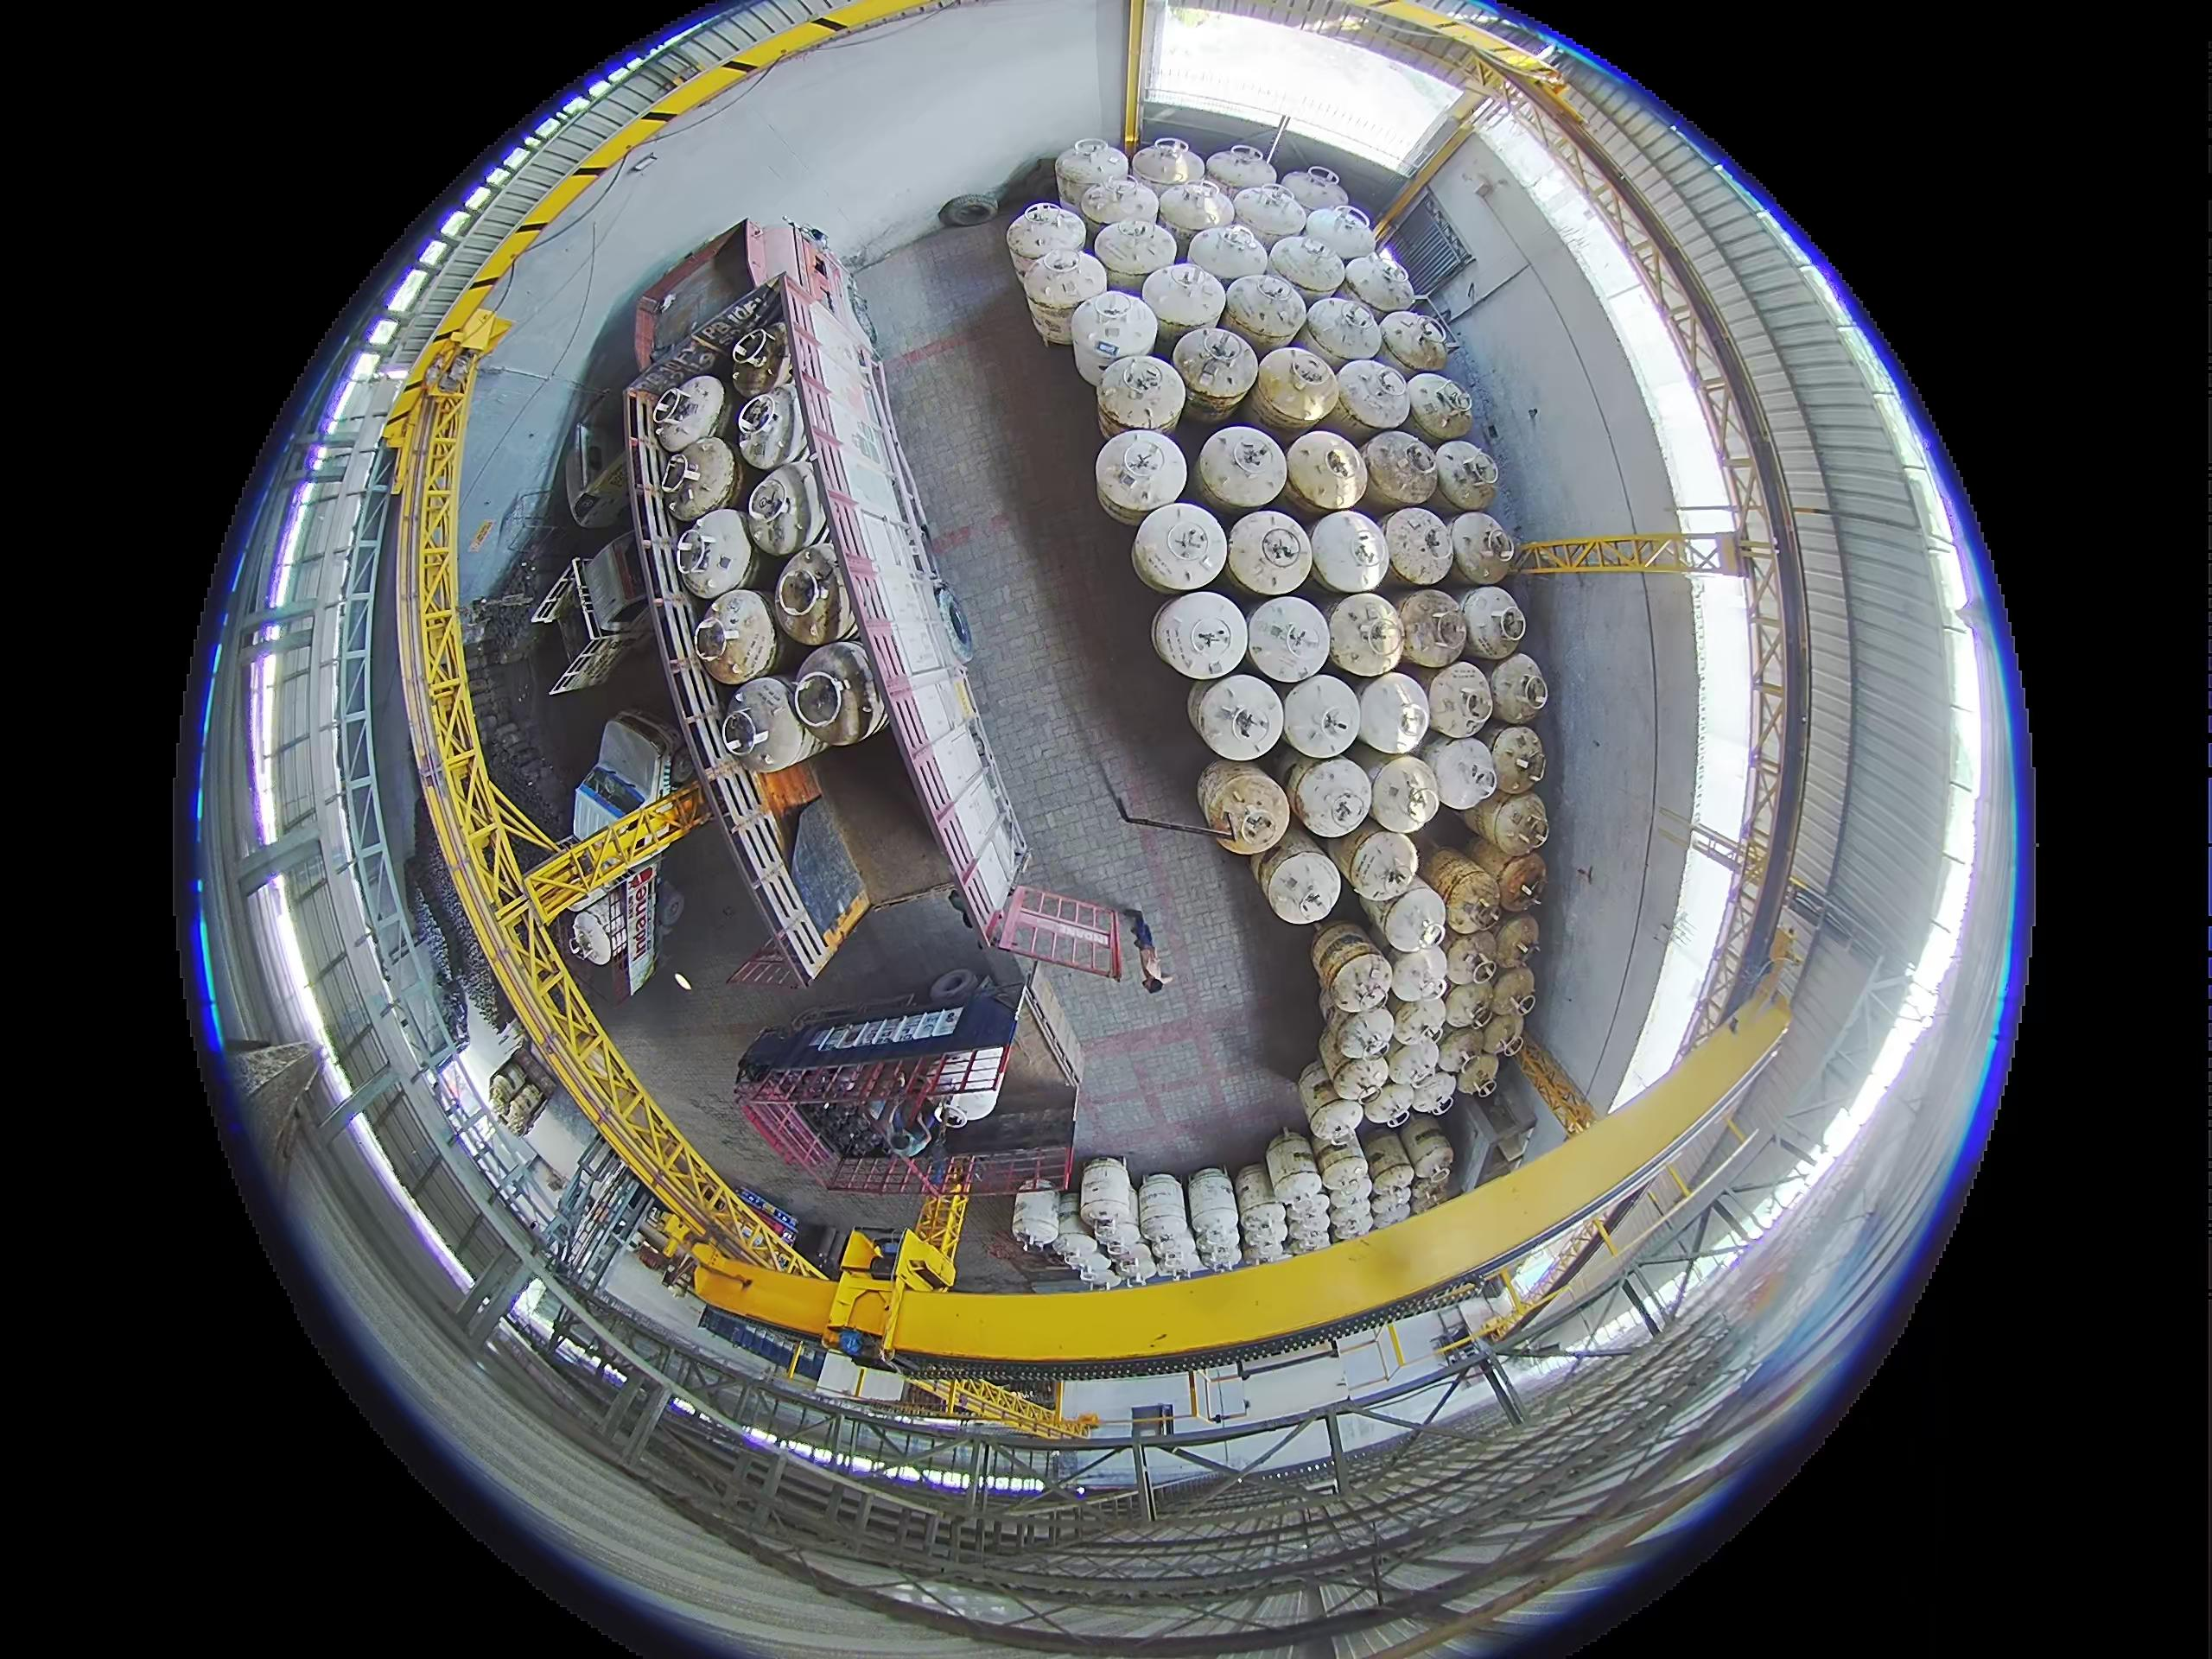cylinder: (1087, 436, 1228, 538), (1130, 502, 1226, 596), (1195, 760, 1287, 854), (1190, 673, 1284, 762), (1242, 594, 1329, 685), (1226, 511, 1315, 598), (1015, 249, 1097, 343), (1198, 425, 1287, 511), (1254, 347, 1341, 432), (1280, 673, 1366, 760), (1172, 326, 1258, 413), (1289, 755, 1374, 840), (1285, 430, 1369, 518), (1308, 507, 1392, 594), (1097, 352, 1183, 436), (1325, 592, 1407, 676), (1339, 823, 1423, 904), (1221, 272, 1306, 350), (1364, 429, 1440, 511), (1367, 753, 1444, 835), (1393, 589, 1470, 671), (1261, 849, 1343, 925), (1355, 673, 1432, 753), (1383, 505, 1458, 587), (1144, 265, 1226, 338), (1303, 295, 1385, 368), (1334, 357, 1411, 434), (1080, 291, 1160, 364), (1425, 659, 1496, 739), (1426, 735, 1500, 812), (1188, 221, 1273, 286), (1157, 179, 1235, 249), (1007, 202, 1083, 272), (1082, 178, 1160, 246), (1268, 234, 1348, 300), (1460, 586, 1529, 660), (1379, 880, 1449, 955), (1096, 216, 1174, 282), (1449, 511, 1519, 584), (1378, 310, 1451, 378), (1301, 202, 1378, 267), (1404, 373, 1474, 443), (1055, 139, 1129, 206), (1433, 441, 1501, 511), (1341, 251, 1414, 315), (1233, 185, 1308, 246), (1486, 791, 1552, 857), (1487, 653, 1550, 723), (1486, 723, 1547, 795), (1130, 138, 1204, 197), (1325, 951, 1395, 1011), (1386, 945, 1451, 1007), (1331, 1006, 1397, 1065), (1205, 143, 1277, 197), (1444, 929, 1503, 990), (1280, 166, 1350, 216), (1385, 1035, 1444, 1094), (1329, 1047, 1392, 1103), (1298, 1060, 1346, 1126), (1494, 852, 1548, 911), (1402, 1121, 1454, 1182), (1388, 1000, 1444, 1056), (1442, 979, 1498, 1033), (1355, 889, 1409, 945), (1306, 1094, 1364, 1147), (1474, 1009, 1529, 1061), (1487, 964, 1536, 1021), (1360, 1129, 1413, 1182), (1364, 1080, 1421, 1126), (1367, 1157, 1418, 1208), (1494, 917, 1541, 971), (1318, 1152, 1372, 1197), (1270, 1162, 1324, 1206), (1435, 1026, 1482, 1075), (1407, 1072, 1458, 1117), (1325, 1192, 1372, 1239), (1233, 1164, 1278, 1211), (1282, 1188, 1332, 1230), (1454, 1051, 1500, 1096), (1240, 1201, 1287, 1243), (1367, 1188, 1413, 1229), (1409, 1176, 1454, 1216)
truck: (622, 228, 1061, 1061), (704, 1021, 1127, 1169), (625, 220, 850, 415), (568, 714, 695, 983), (529, 540, 662, 701)
